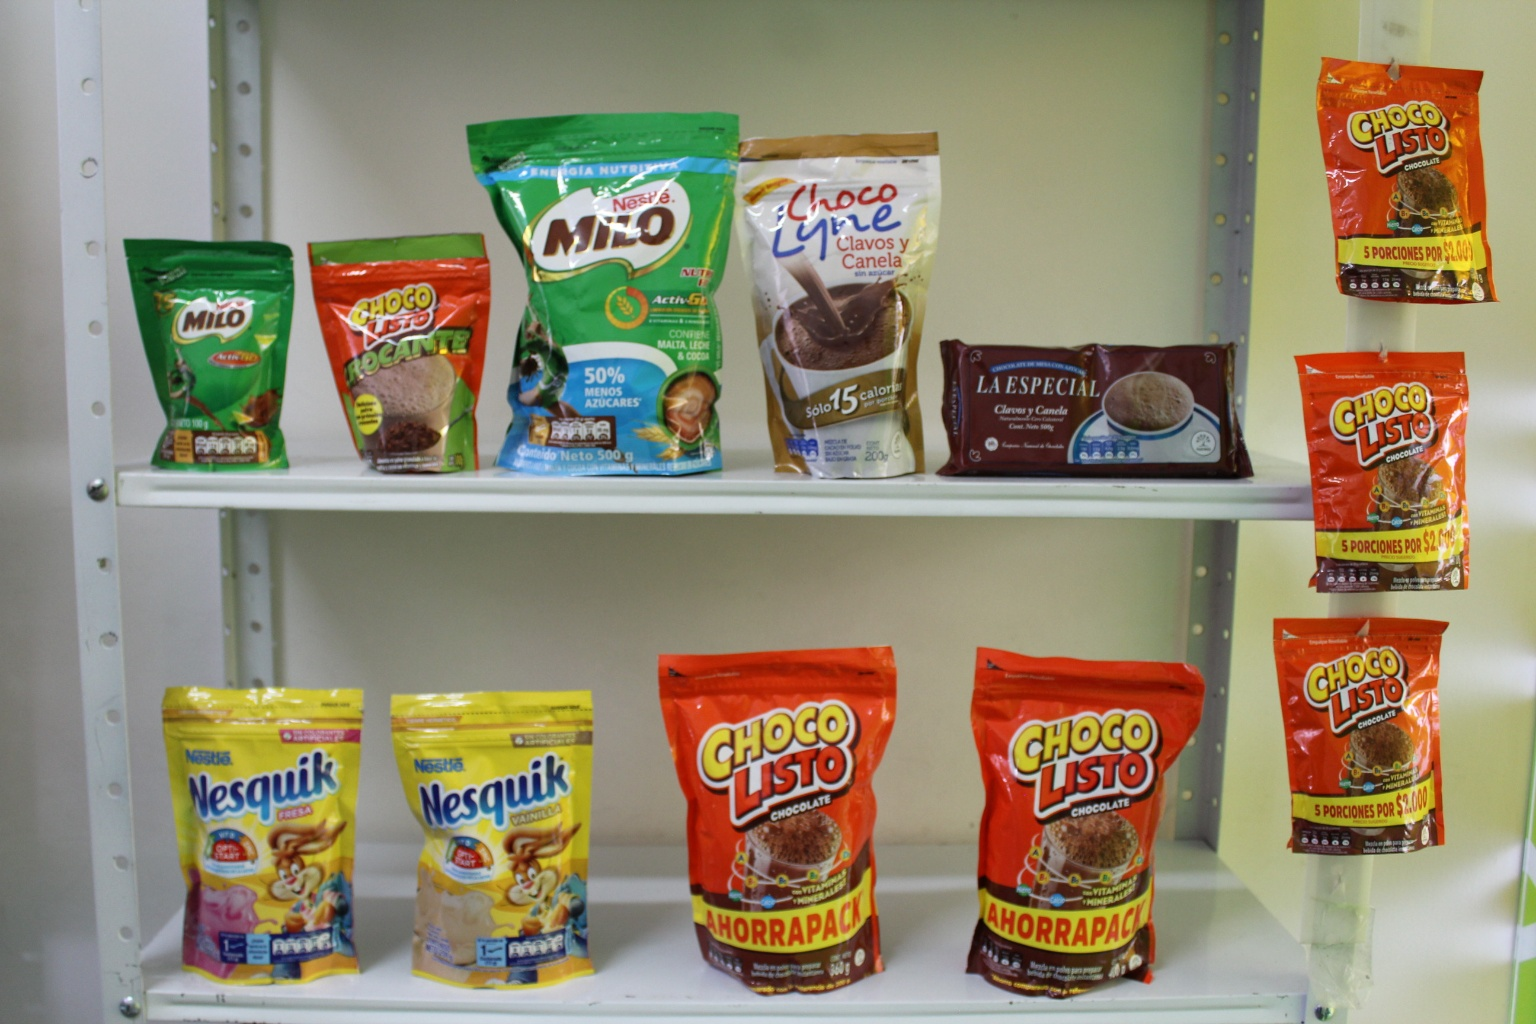COL0170102DYP10000: (315, 216, 494, 480)
COL0170103DYP10000: (1317, 53, 1501, 312)
COL0170103DYP36000: (643, 630, 904, 987)
COL0170103DYP40000: (957, 625, 1217, 994)
COL0170203DYP10000: (121, 209, 311, 472)
COL0170205DYP50000: (464, 96, 731, 482)
COL0170305DYP20000: (142, 667, 392, 985)
COL0170306DYP20000: (393, 677, 608, 992)
